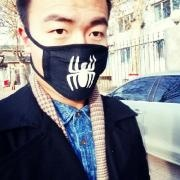Mask: (36, 14, 120, 99)
